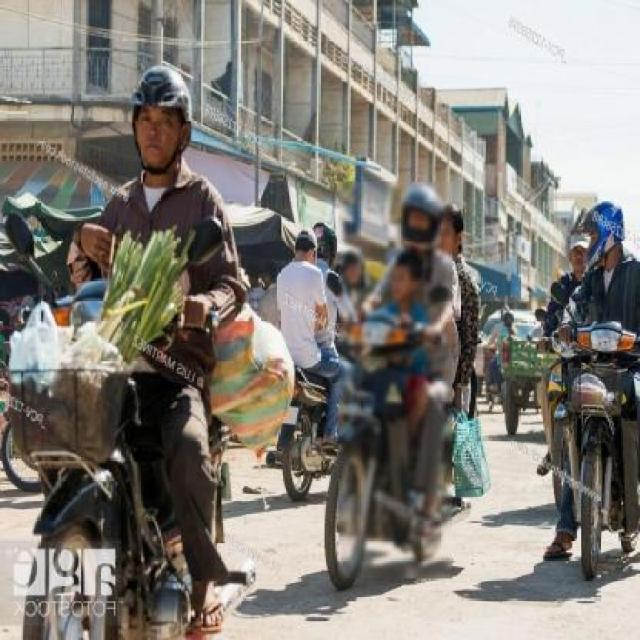helmet: (102, 67, 209, 182), (564, 199, 636, 278), (385, 176, 450, 250)
motorcycle: (11, 56, 308, 640), (309, 177, 481, 602), (518, 185, 640, 604)
